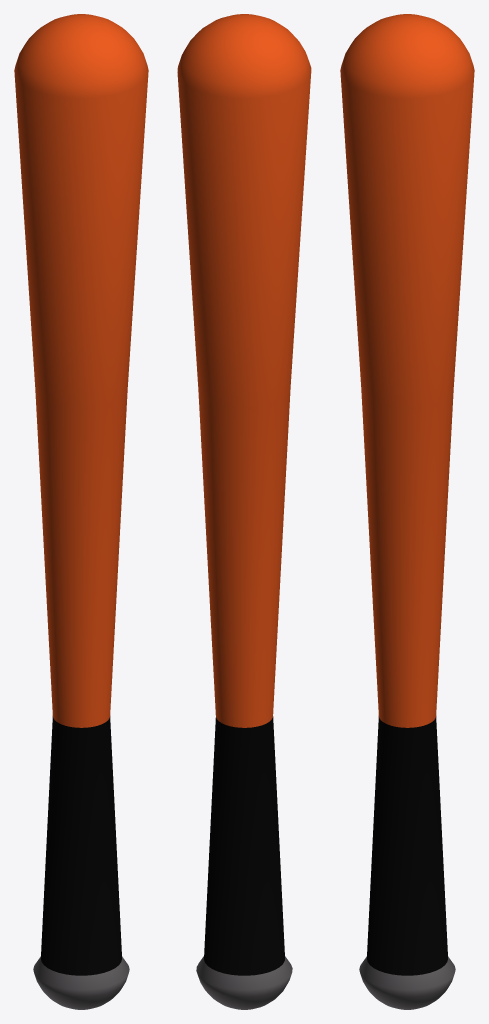
The model's file is Baseball bat.fbx.
3 views of the same model, side by side, from view 1: azimuth 90°, elevation 25°; view 2: azimuth 150°, elevation 25°; view 3: azimuth 270°, elevation 25° (orthographic).
Visible parts, largest first — view 1: Sphere; view 2: Sphere; view 3: Sphere.
Part boxes in pixels (box(x1,y1,x2,y2)): Sphere: box(14, 14, 148, 1009); Sphere: box(177, 14, 311, 1009); Sphere: box(340, 14, 474, 1009).
Size of the model in its own units: 253 by 2049 by 253.
